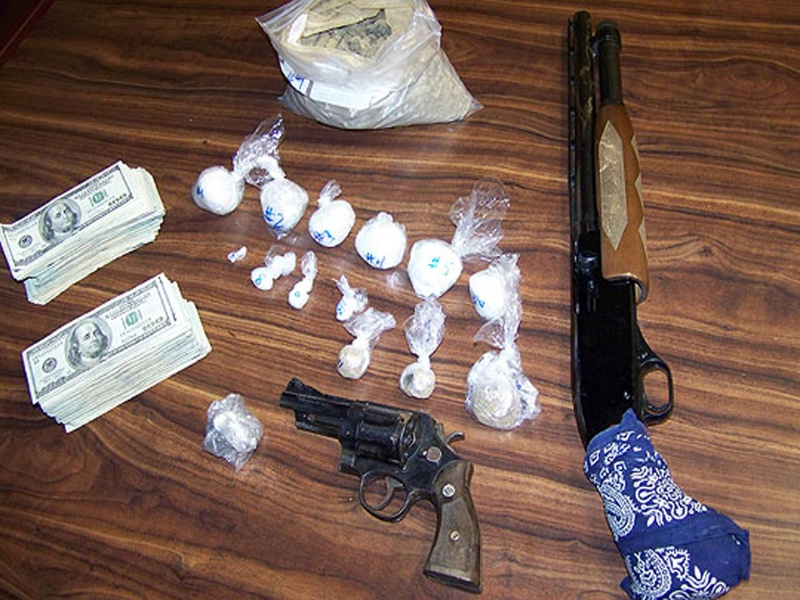cash: (20, 273, 212, 431), (1, 162, 167, 303)
weapon: (567, 11, 751, 595), (280, 378, 483, 592)
